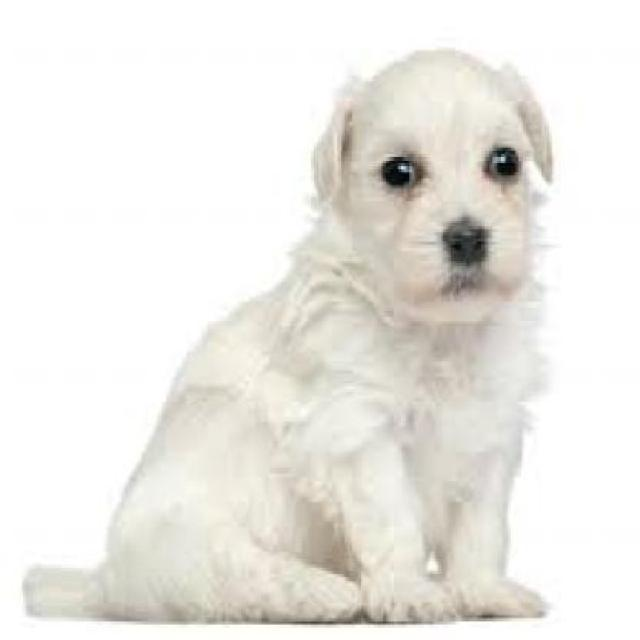animals: (110, 47, 576, 619)
